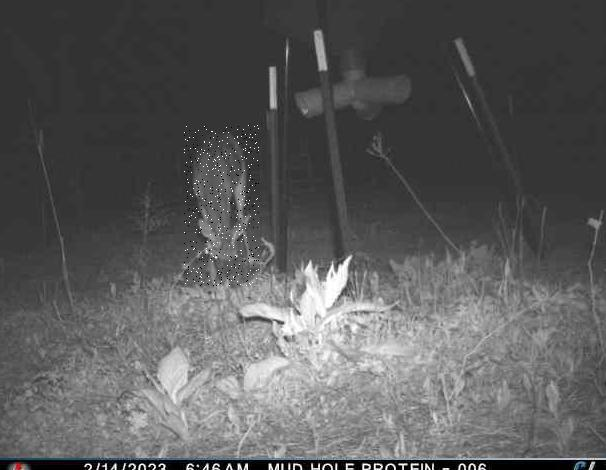Deer: (185, 125, 260, 286)
